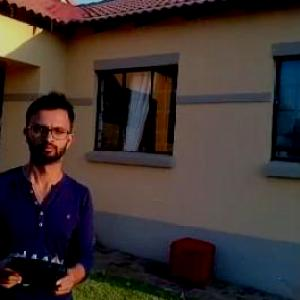follow: (0, 84, 98, 299)
